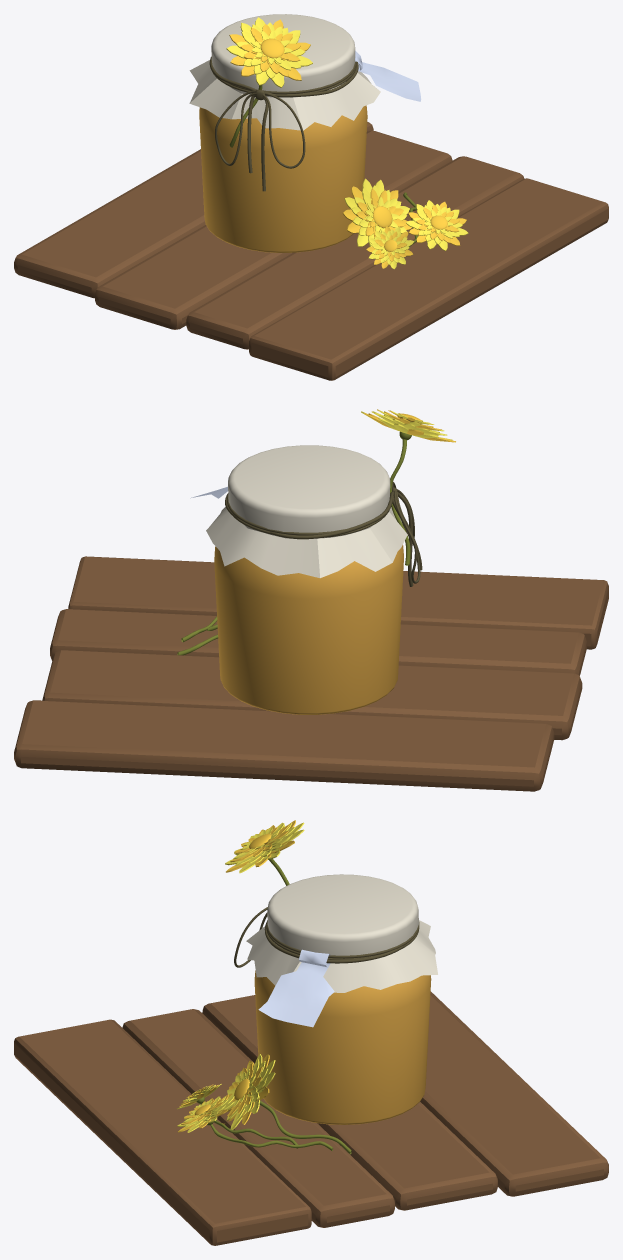
The model's file is miel.glb.
3 views of the same model, one above another, from view 1: azimuth 30°, elevation 25°; view 2: azimuth 150°, elevation 25°; view 3: azimuth 270°, elevation 25° (orthographic). The views are drawn at different scales.
Parts seen in each view (by area): view 1: Cube.003_237, Cylinder_55, Cube.002_236, Cube_234, Cube.001_235, Circle_56, BezierCurve.003_66, paper_57, BezierCurve.004_67, BezierCurve.005_68; view 2: Cube.001_235, Cylinder_55, Cube_234, Circle_56, Cube.003_237, Cube.002_236, BezierCurve.003_66; view 3: Cube.003_237, Cylinder_55, Cube.001_235, Cube.002_236, Circle_56, Cube_234, paper_57.
Part boxes in pixels (<box>): Cube.003_237: <box>249,178,608,380</box>; Cylinder_55: <box>199,105,367,252</box>; Cube.002_236: <box>186,156,524,349</box>; Cube_234: <box>95,130,452,329</box>; Cube.001_235: <box>14,122,373,298</box>; Circle_56: <box>189,14,380,130</box>; BezierCurve.003_66: <box>209,56,358,191</box>; paper_57: <box>355,51,421,101</box>; BezierCurve.004_67: <box>262,92,305,168</box>; BezierCurve.005_68: <box>215,90,256,165</box>; Cube.001_235: <box>14,700,554,791</box>; Cylinder_55: <box>214,545,403,714</box>; Cube_234: <box>42,650,582,740</box>; Circle_56: <box>206,445,407,578</box>; Cube.003_237: <box>68,556,608,649</box>; Cube.002_236: <box>50,609,586,675</box>; BezierCurve.003_66: <box>225,491,422,586</box>; Cube.003_237: <box>14,1019,311,1245</box>; Cylinder_55: <box>254,970,431,1124</box>; Cube.001_235: <box>420,991,608,1196</box>; Cube.002_236: <box>122,1009,394,1227</box>; Circle_56: <box>246,874,437,992</box>; Cube_234: <box>202,995,497,1210</box>; paper_57: <box>258,949,334,1027</box>.
Size of the model in its own units: 0.6799 by 0.3234 by 0.6677.
